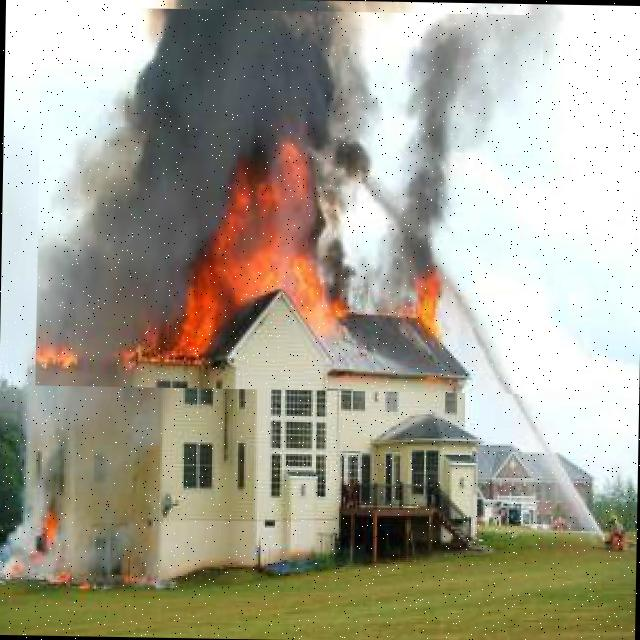fire: (34, 6, 544, 394)
